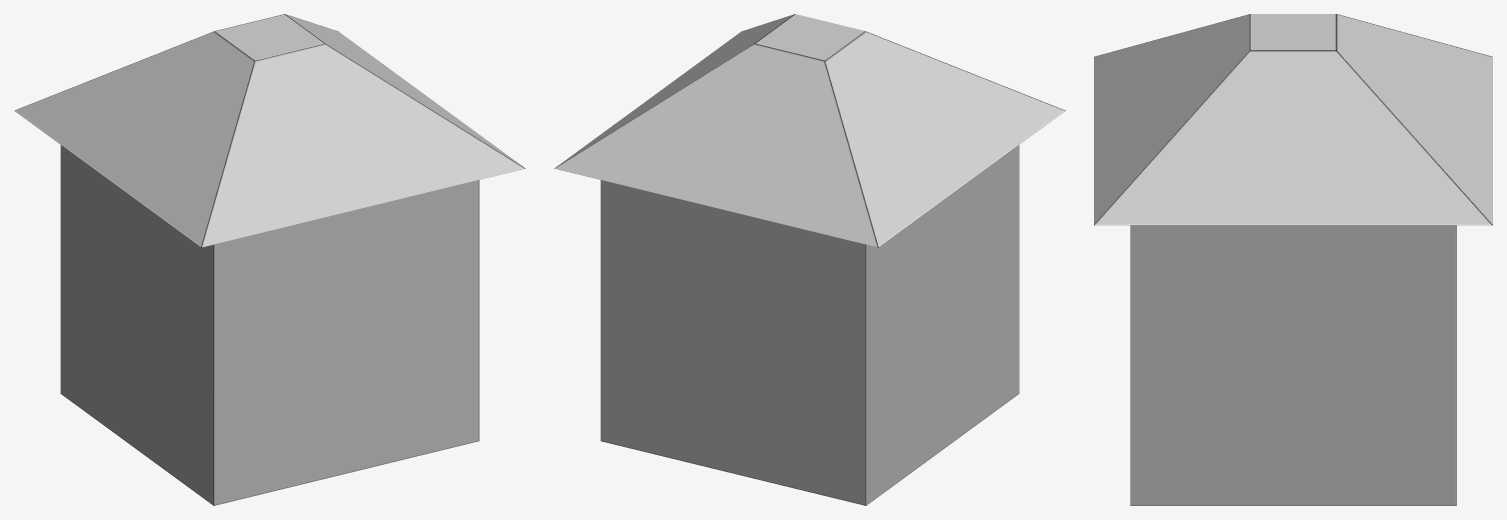
The model's file is house.obj.
3 renders of one model, left to right at view 1: azimuth 30°, elevation 25°; view 2: azimuth 150°, elevation 25°; view 3: azimuth 270°, elevation 25°, orthographic. The views are drawn at different scales.
Visible parts, largest first — view 1: Cube; view 2: Cube; view 3: Cube.
Part boxes in pixels (x1,y1,x2,y2): Cube: [14, 14, 525, 505]; Cube: [554, 14, 1065, 505]; Cube: [1094, 14, 1492, 505].
Size of the model in its own units: 9.78 by 10.94 by 9.78.
Materials: 1 (1 with a texture image).
